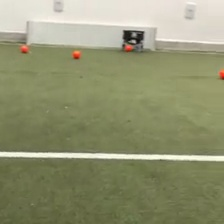ball: (71, 49, 81, 58), (20, 43, 29, 52), (124, 44, 132, 52), (218, 68, 224, 78)
goal: (25, 19, 158, 52)
robot: (121, 28, 145, 52)
